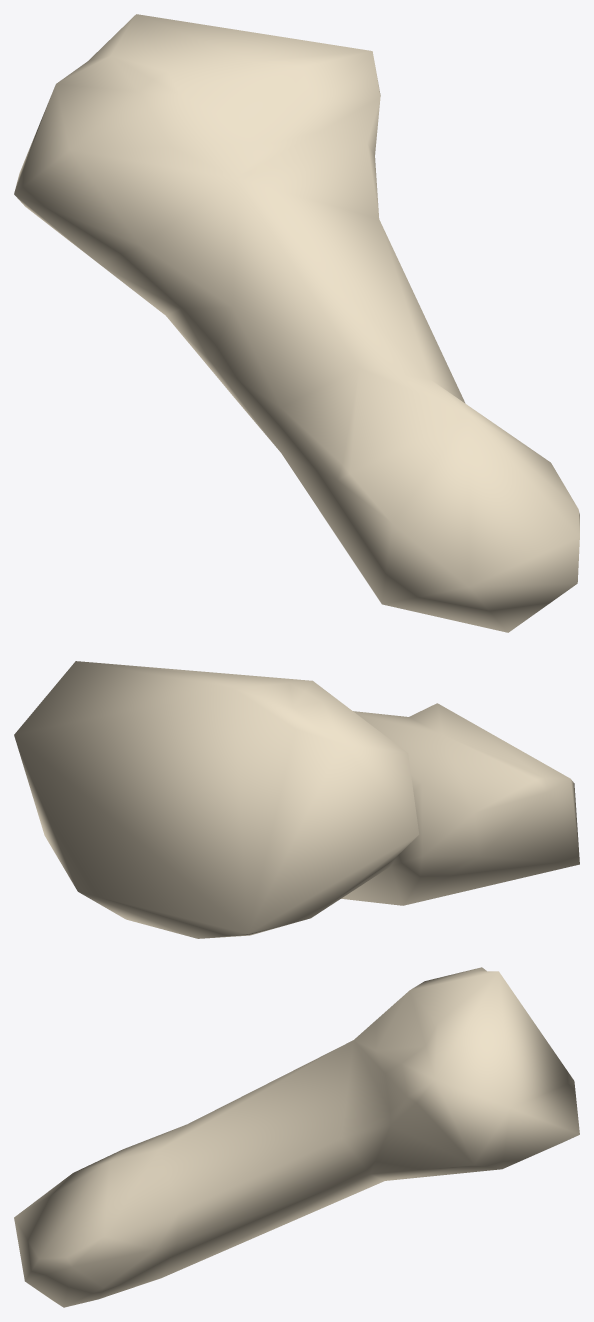
Rendered from distal-phalanx-of-fourth-finger-of-hand-l.glb.
The picture shows the model from 3 angles, top to bottom: view 1: azimuth 30°, elevation 25°; view 2: azimuth 150°, elevation 25°; view 3: azimuth 270°, elevation 25°; orthographic projection. The views are drawn at different scales.
Parts seen in each view (by area): view 1: Distal phalanx of fourth finger of hand.l; view 2: Distal phalanx of fourth finger of hand.l; view 3: Distal phalanx of fourth finger of hand.l.
Part boxes in pixels (left/top/right/bottom): Distal phalanx of fourth finger of hand.l: left=14, top=14, right=579, bottom=632; Distal phalanx of fourth finger of hand.l: left=14, top=661, right=579, bottom=938; Distal phalanx of fourth finger of hand.l: left=14, top=967, right=579, bottom=1307.
Bounding box in the file's own units: 0.00861 × 0.00961 × 0.0162.
